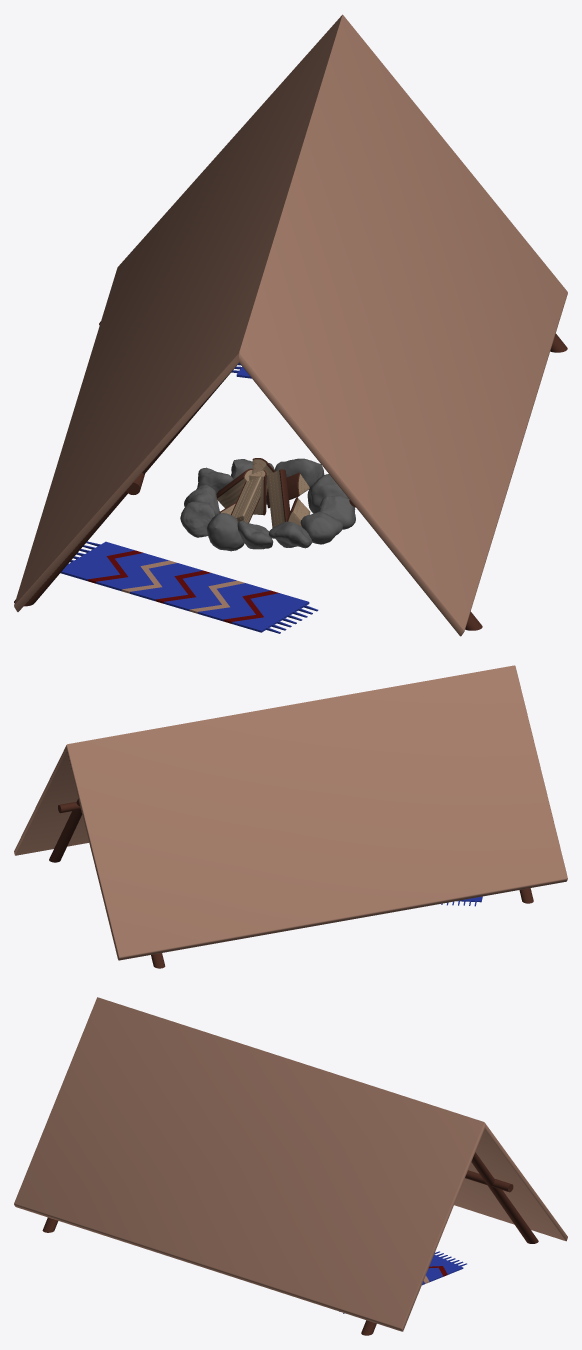
File: Koster_palatka.fbx
The picture shows the model from 3 angles, top to bottom: view 1: azimuth 30°, elevation 25°; view 2: azimuth 150°, elevation 25°; view 3: azimuth 270°, elevation 25°; orthographic projection. The views are drawn at different scales.
Parts seen in each view (by area): view 1: Koster_palatka; view 2: Koster_palatka; view 3: Koster_palatka.
Part boxes in pixels (bbox=[...]): Koster_palatka: bbox=[14, 14, 567, 636]; Koster_palatka: bbox=[14, 665, 567, 968]; Koster_palatka: bbox=[14, 997, 567, 1335].
Bounding box in the file's own units: 171 × 67.12 × 185.
